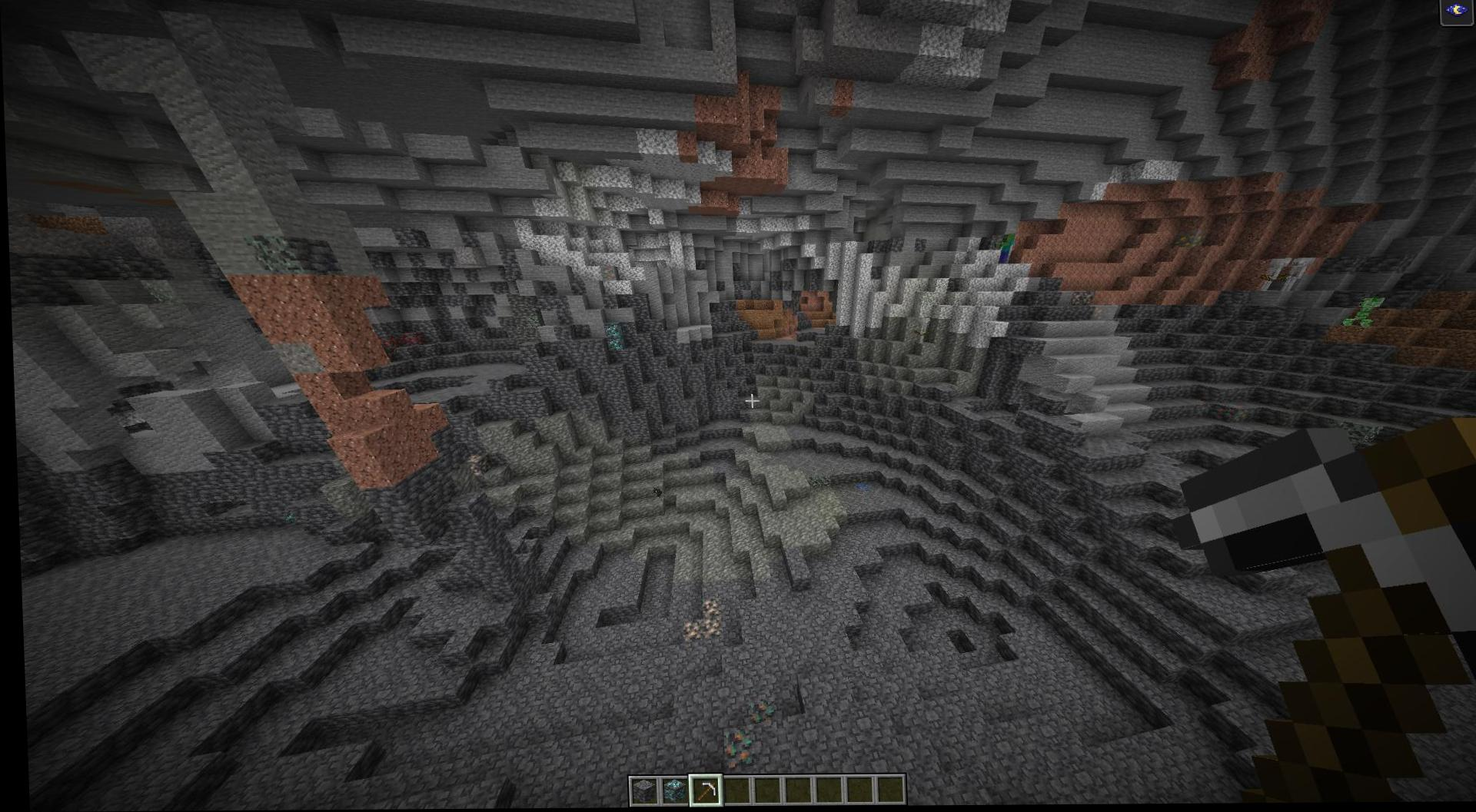diamond ore: (603, 322, 621, 354)
iron ore: (692, 619, 718, 641), (678, 619, 699, 646), (696, 601, 716, 620)
redstone ore: (399, 332, 421, 347), (378, 332, 397, 347)
